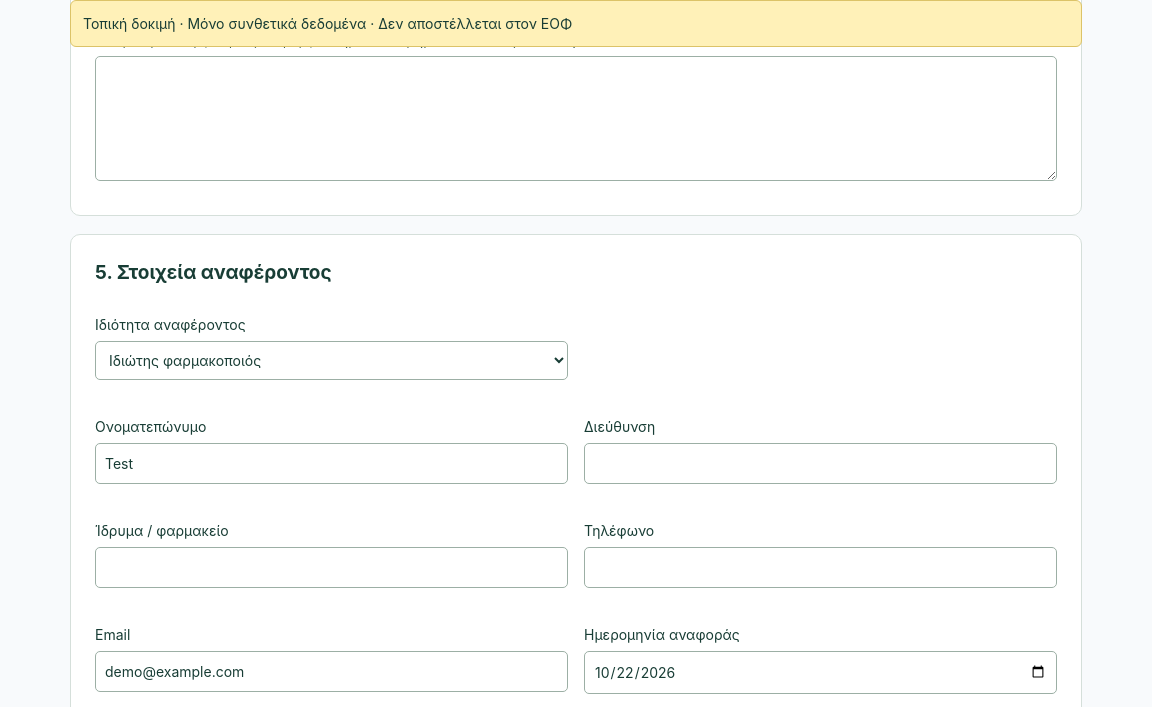
Yellow Card reporter role › offers only pharmacist roles, defaults to private and saves the chosen role
(page scrolled)
Select "Νοσοκομειακός φαρμακοποιός" in the dropdown labelled "Ιδιότητα αναφέροντος" at [332, 360], box [95,341,568,380]
(page scrolled)
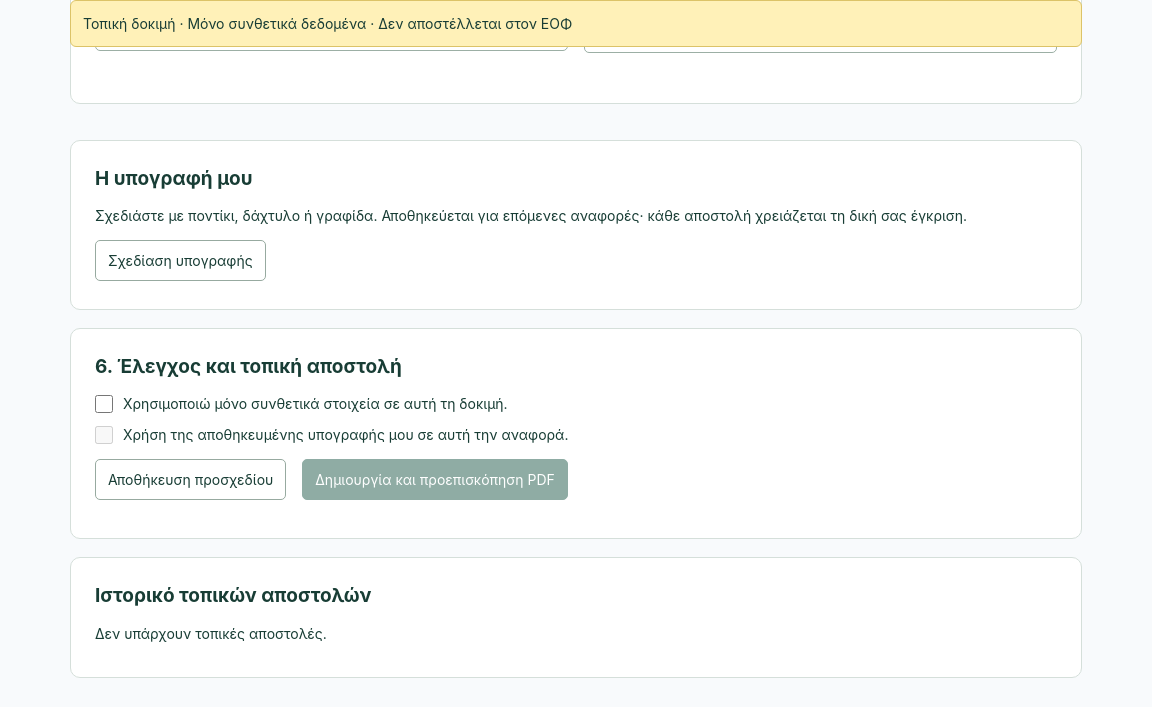
Click the button "Αποθήκευση προσχεδίου" at [191, 480], box [95,459,286,500]
(page scrolled)
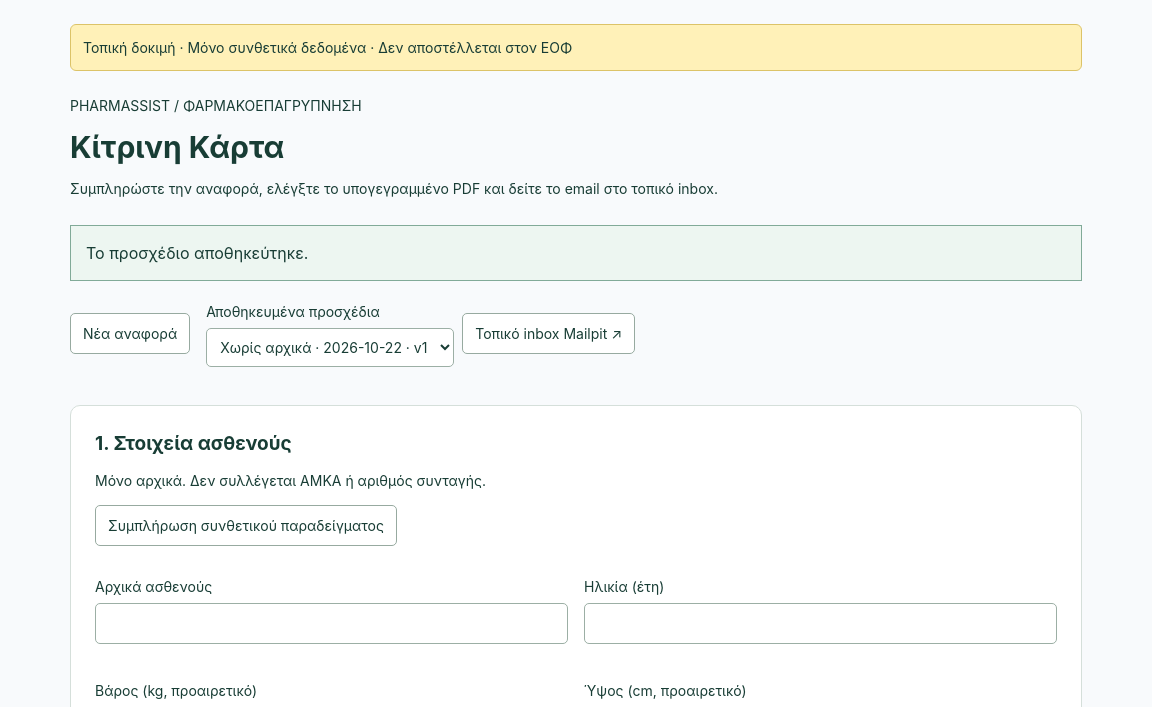
expect the text "Το προσχέδιο αποθηκεύτηκε." is shown: met, box [70,225,1082,281]
